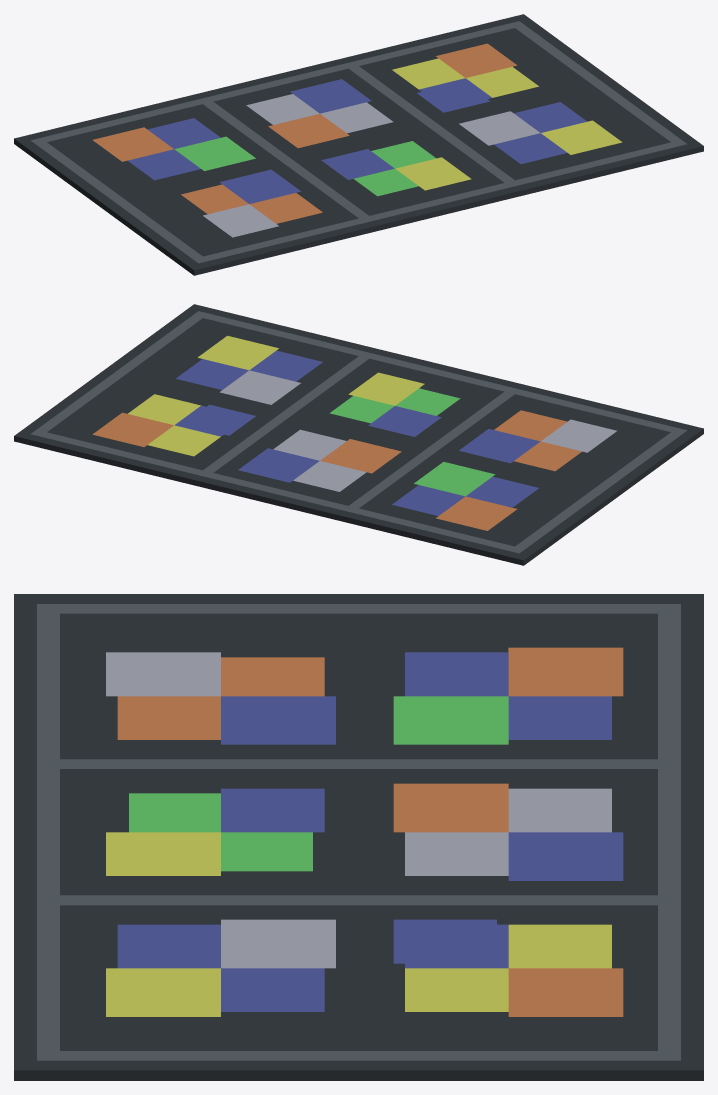
The model's file is carpet_0_lev1_lev3.glb.
The picture shows the model from 3 angles, top to bottom: view 1: azimuth 30°, elevation 25°; view 2: azimuth 150°, elevation 25°; view 3: azimuth 270°, elevation 25°; orthographic projection. The views are drawn at different scales.
Visible parts, largest first — view 1: carpet_0_lev1_lev3; view 2: carpet_0_lev1_lev3; view 3: carpet_0_lev1_lev3.
Boxes of the visible parts, x1,y1,x2,y2 form: carpet_0_lev1_lev3: (14,14,703,275); carpet_0_lev1_lev3: (14,304,703,565); carpet_0_lev1_lev3: (14,594,703,1080).
Bounding box in the file's own units: 8.86 × 0.0904 × 5.43.
Materials: 1 (1 with a texture image).
